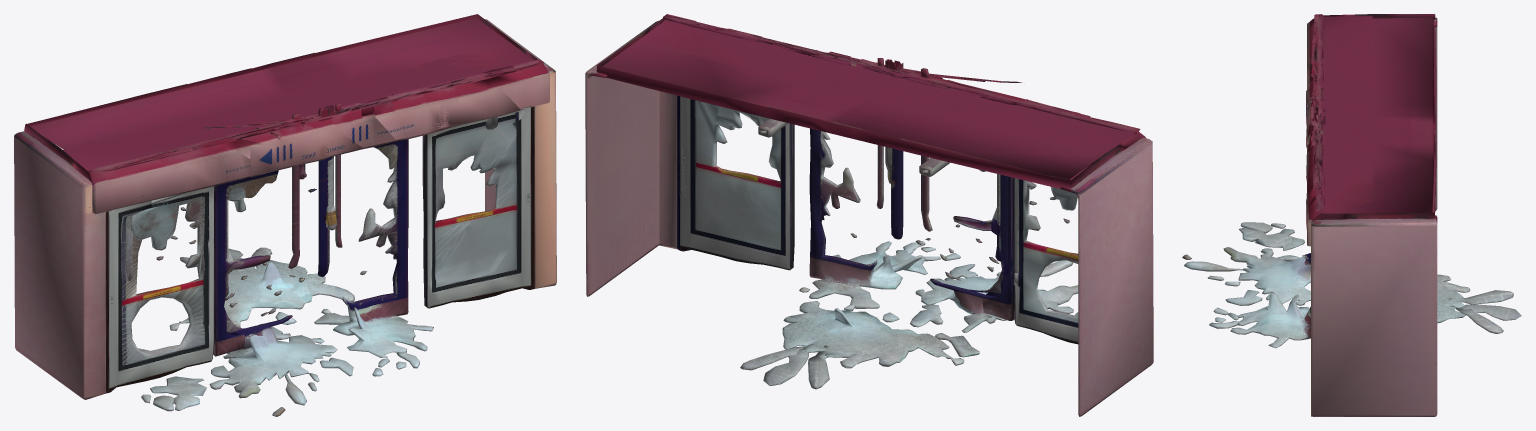
Rendered from Meshy_AI_Daebang–Singil–Ye_0517130025_texture.fbx.
3 views of the same model, side by side, from view 1: azimuth 30°, elevation 25°; view 2: azimuth 150°, elevation 25°; view 3: azimuth 270°, elevation 25° (orthographic). The views are drawn at different scales.
Parts seen in each view (by area): view 1: Mesh_0; view 2: Mesh_0; view 3: Mesh_0.
Boxes of the visible parts, box(x1,y1,x2,y2) form: Mesh_0: box(14, 14, 556, 416); Mesh_0: box(585, 14, 1153, 416); Mesh_0: box(1182, 14, 1521, 416).
Size of the model in its own units: 191 by 93.15 by 132.
Materials: 1 (1 with a texture image).
